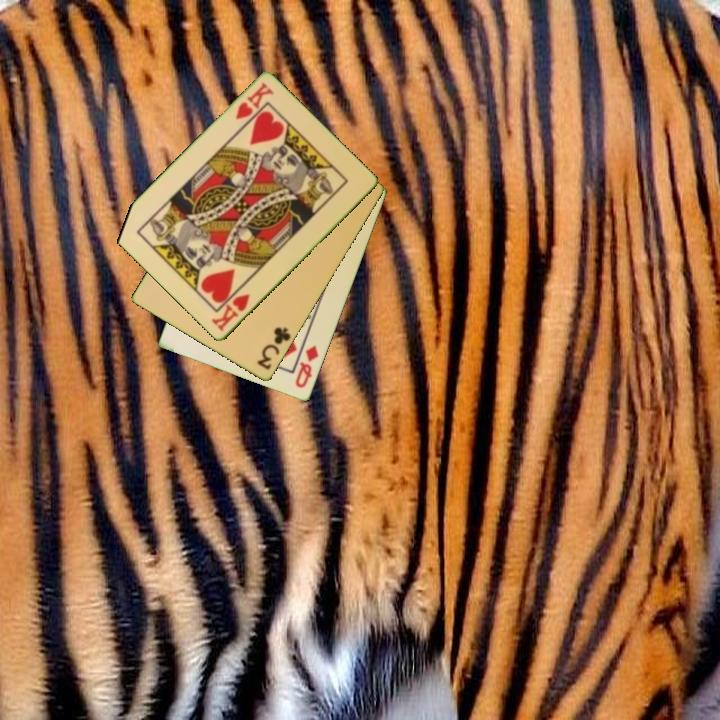3c: (254, 324, 294, 373)
Kh: (208, 290, 253, 335), (232, 79, 277, 123)
Qd: (292, 342, 322, 391)
